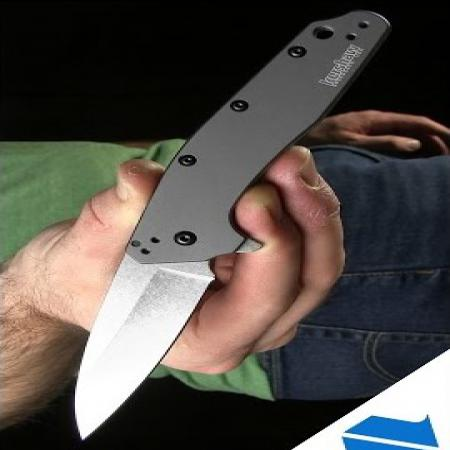long weapon: (64, 131, 344, 442)
